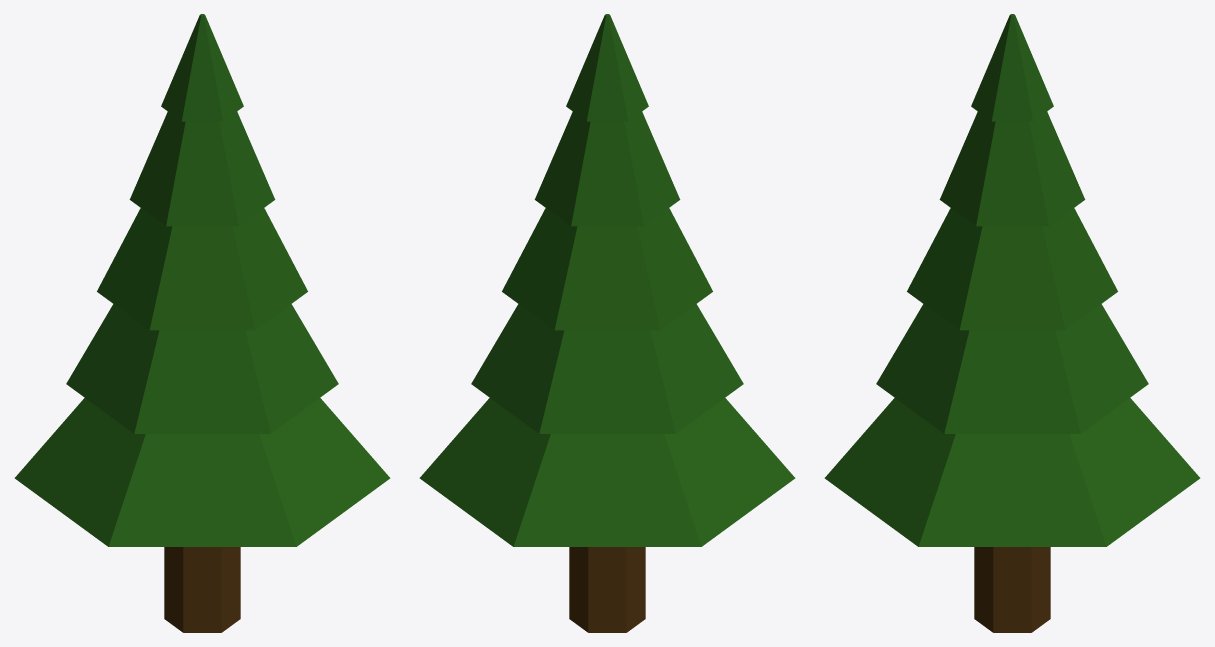
The model's file is Pino2.fbx.
3 renders of one model, left to right at view 1: azimuth 30°, elevation 25°; view 2: azimuth 150°, elevation 25°; view 3: azimuth 270°, elevation 25°, orthographic.
Visible parts, largest first — view 1: Cylinder.001; view 2: Cylinder.001; view 3: Cylinder.001.
Boxes of the visible parts, x1,y1,x2,y2 form: Cylinder.001: [14, 14, 390, 632]; Cylinder.001: [419, 14, 795, 632]; Cylinder.001: [824, 14, 1200, 632].
Bounding box in the file's own units: 426 × 872 × 492.
